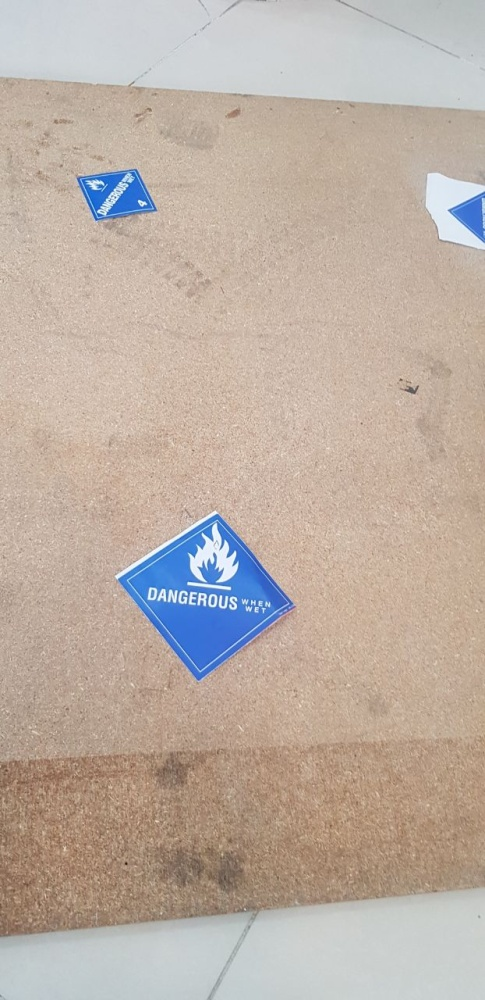Dangerous when wet: (114, 510, 296, 681), (77, 169, 158, 221)
